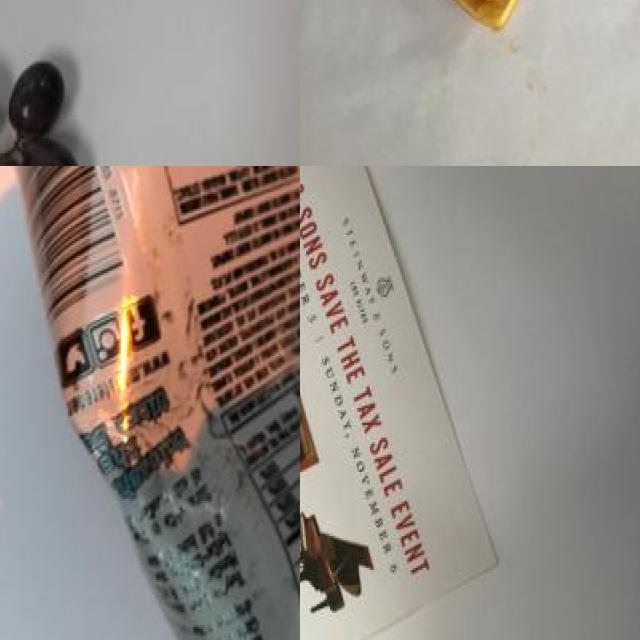compost: (0, 36, 116, 166), (417, 0, 551, 55)
paper: (300, 166, 494, 640)
plastic: (10, 166, 300, 640)
